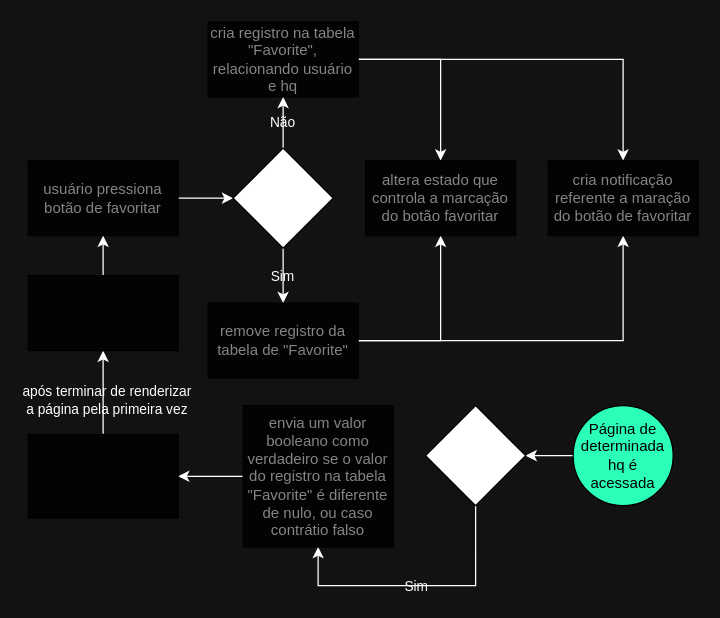
The diagram is 720 pixels wide and 618 high, and some of its shapes have lost their labels. The shapes that lost their labels are listed below. From the top down, each one's centre as x and y in pixels, then its label:
[282,197]: conteúdo é favoritado
[102,312]: botão de favoritar é renderizado
[102,475]: inicia o estado que controla a marcação do botão favoritar com este valor
[475,455]: sessão existe
